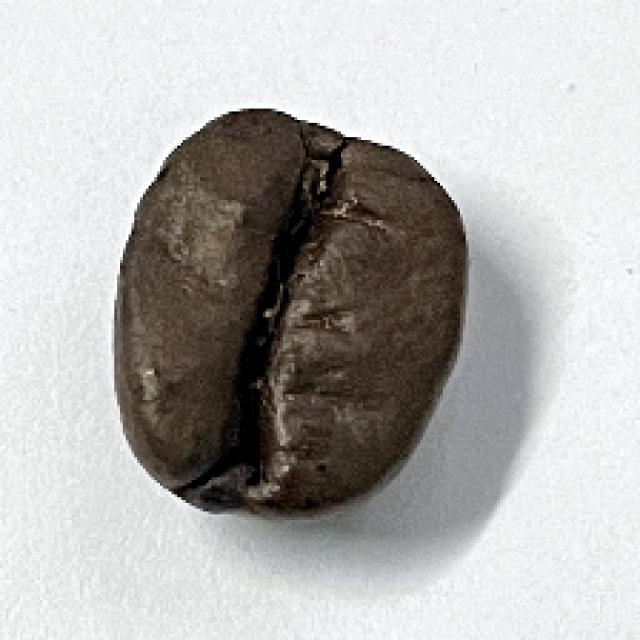bean: (107, 103, 473, 523)
